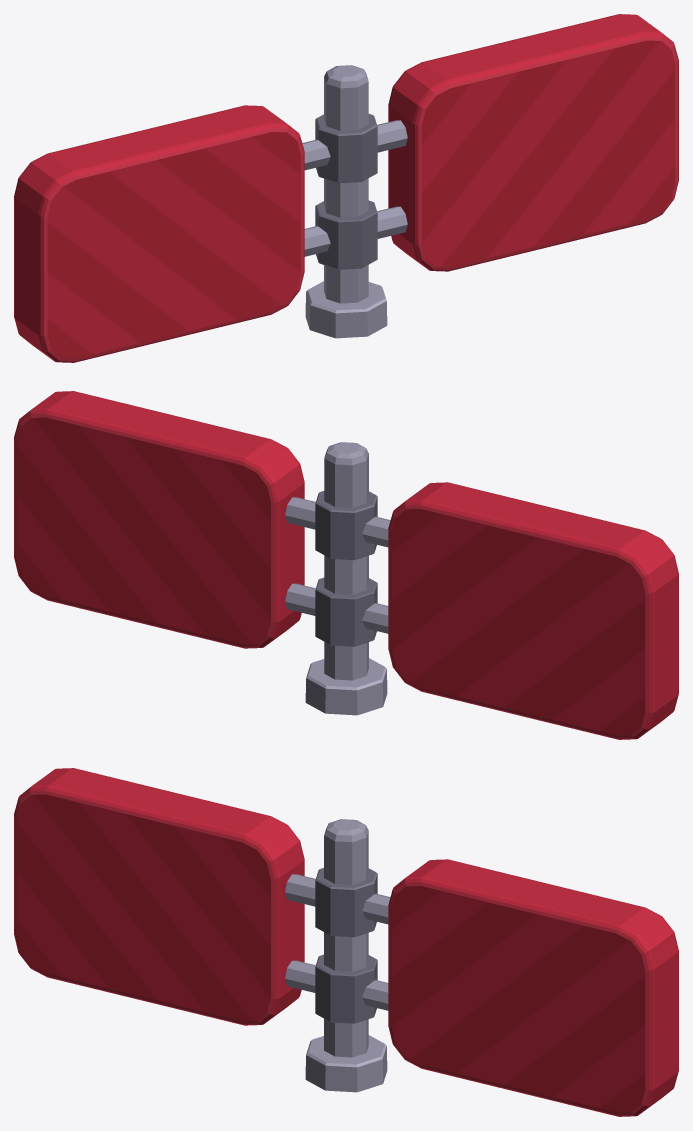
File: Hurdle18.fbx
3 renders of one model, top to bottom at view 1: azimuth 30°, elevation 25°; view 2: azimuth 150°, elevation 25°; view 3: azimuth 330°, elevation 25°, orthographic.
Visible parts, largest first — view 1: Hurdle18; view 2: Hurdle18; view 3: Hurdle18.
Part boxes in pixels (bbox=[...]): Hurdle18: bbox=[14, 14, 678, 362]; Hurdle18: bbox=[14, 391, 678, 739]; Hurdle18: bbox=[14, 768, 678, 1116].
Size of the model in its own units: 4.65 by 1.73 by 0.5328.
Materials: 1 (1 with a texture image).
